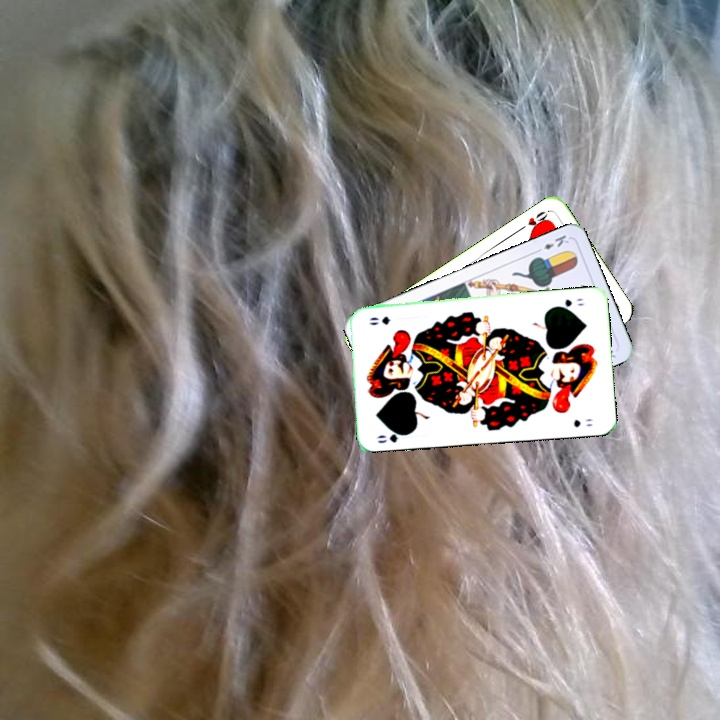EK: (532, 231, 572, 255)
GO: (372, 426, 412, 446), (551, 294, 586, 312)
HO: (515, 206, 551, 234)
